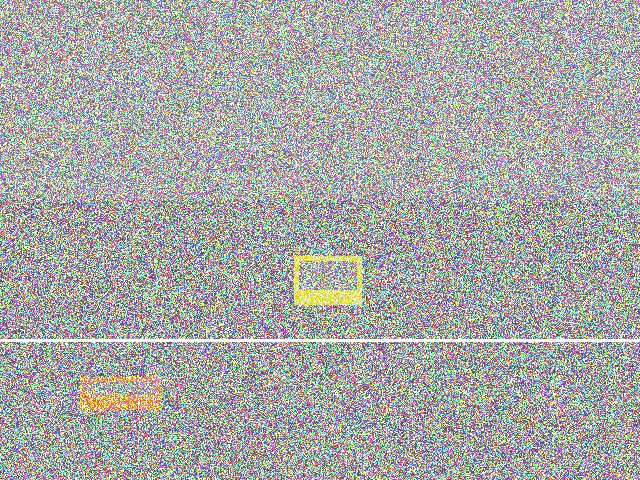bus: (57, 386, 163, 438)
car: (130, 254, 266, 303)
motorcycle: (312, 113, 383, 179)
